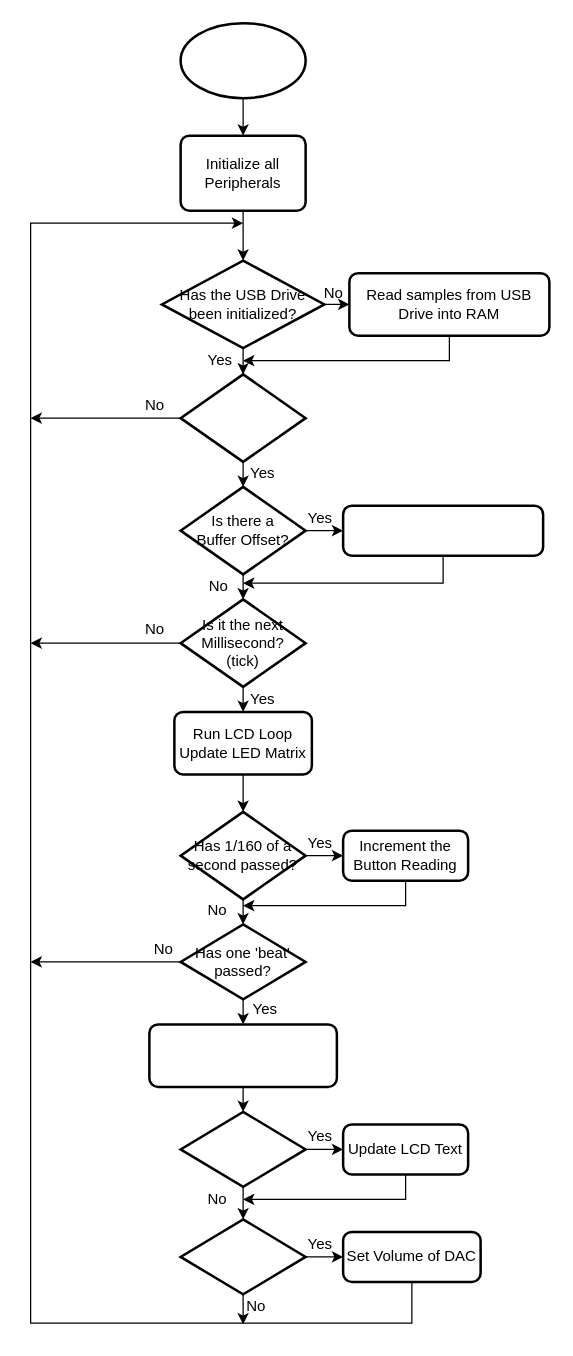
The diagram is 573 pixels wide and 1356 high, and some of its shapes have lost their labels. The shapes that lost their labels are listed below. From the top down, each one's centre as x and y in pixels, then its label:
(x=242, y=60): System Boot
(x=242, y=417): Is Play Flag Set
(x=442, y=530): Move all cued audio data into DMA Buffer
(x=243, y=1055): Move Column indicator Cue selected sounds
(x=242, y=1149): BPM or Volume Changed?
(x=242, y=1256): Has Volume Changed?
